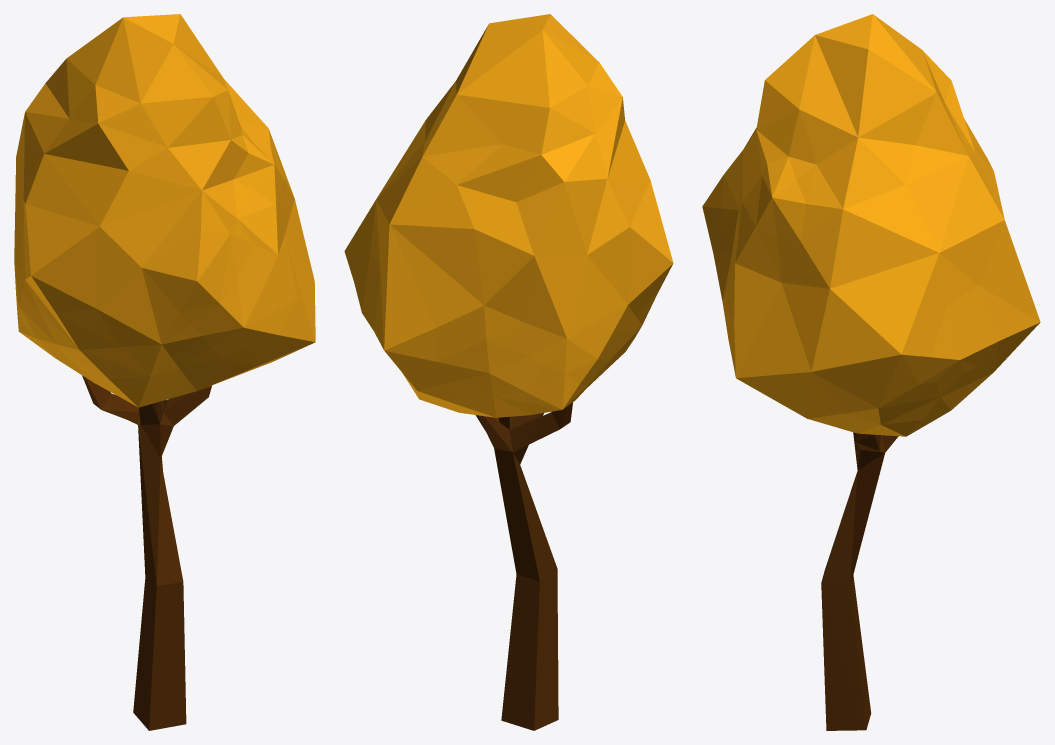
Rendered from Arvore02.fbx.
The picture shows the model from 3 angles, left to right: view 1: azimuth 30°, elevation 25°; view 2: azimuth 150°, elevation 25°; view 3: azimuth 270°, elevation 25°; orthographic projection.
Visible parts, largest first — view 1: Icosphere.009; view 2: Icosphere.009; view 3: Icosphere.009.
Boxes of the visible parts, x1=… form: Icosphere.009: x1=14, y1=14, x2=315, y2=730; Icosphere.009: x1=344, y1=14, x2=673, y2=730; Icosphere.009: x1=702, y1=14, x2=1040, y2=730.
Size of the model in its own units: 248 by 566 by 249.
